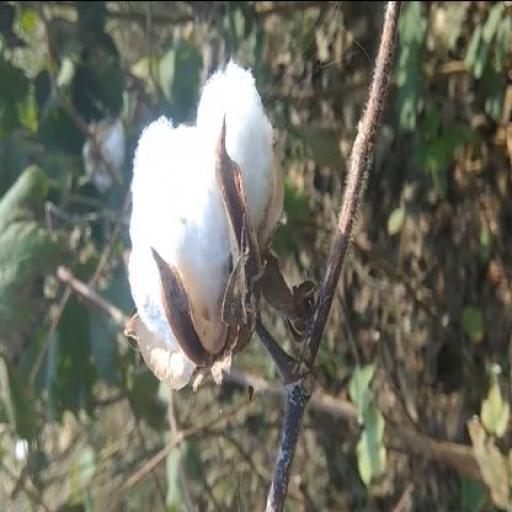cotton_ready: (101, 52, 374, 411)
